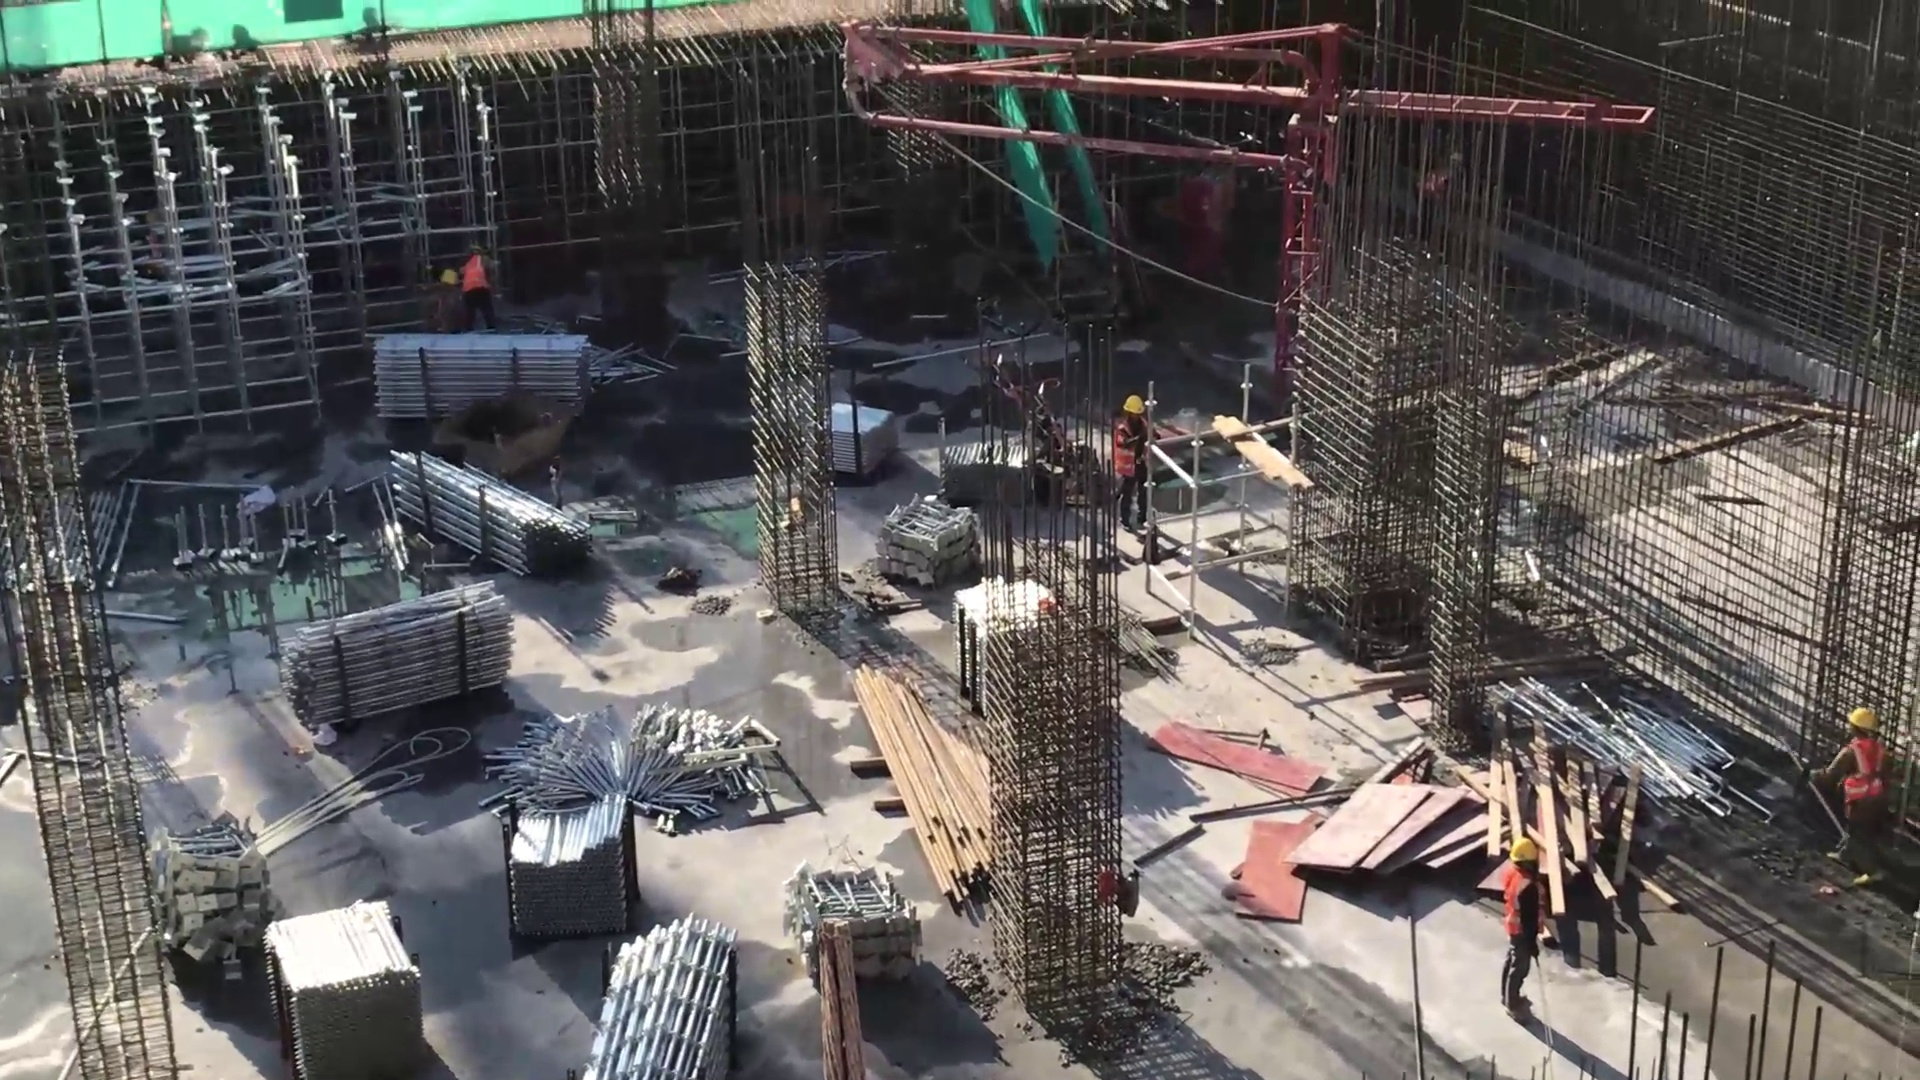board: (1292, 783, 1489, 876)
helmet: (1509, 839, 1542, 862), (1848, 710, 1878, 731), (1119, 395, 1144, 412)
person: (1819, 697, 1890, 866), (1497, 831, 1548, 1018), (1104, 377, 1155, 534), (462, 245, 512, 341), (424, 264, 456, 337)
scaffold: (294, 573, 519, 710), (263, 904, 438, 1073), (386, 437, 590, 576), (1539, 681, 1732, 810), (369, 320, 606, 419), (590, 930, 742, 1080), (505, 797, 642, 949), (938, 436, 1031, 492), (957, 588, 992, 708)
vest: (1505, 870, 1546, 939), (1112, 417, 1147, 483), (1847, 743, 1883, 800)
wood: (855, 664, 1013, 887), (1496, 739, 1658, 908)
